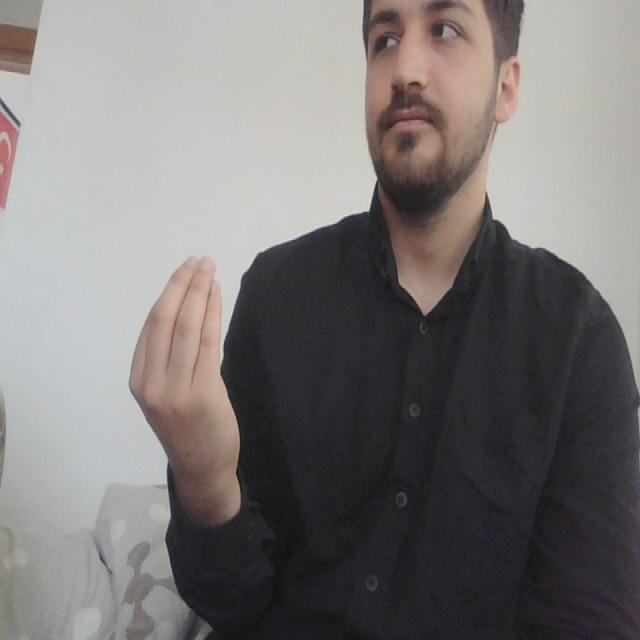iyi: (129, 246, 228, 405)
